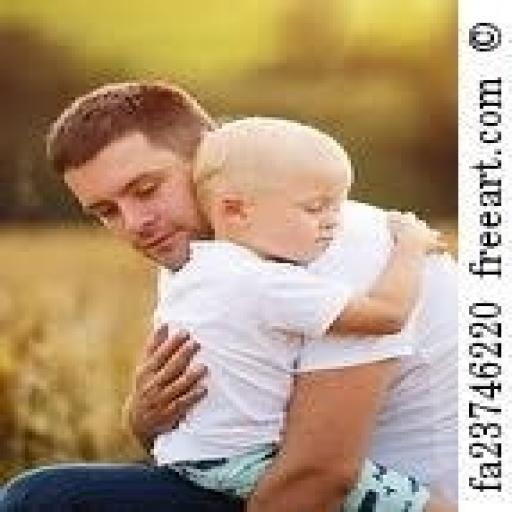hugging: (0, 77, 451, 509)
